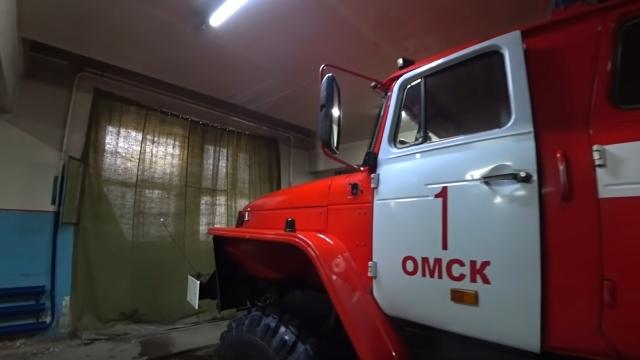fire fighting vehicle: (183, 1, 640, 360)
